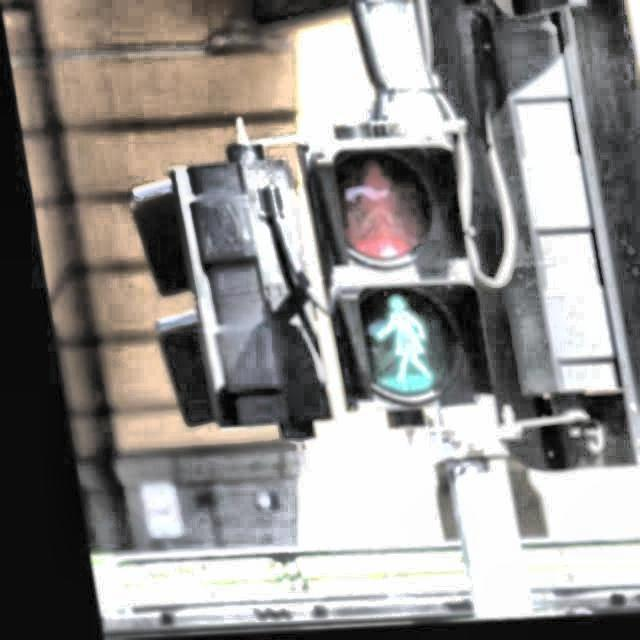semaforo pedestre: (282, 106, 572, 501)
